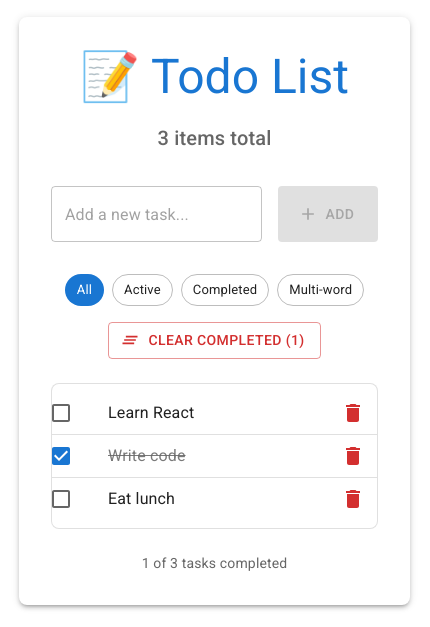
Test: ClunkyTodoList Component › Edge Cases and Error Handling › handles empty state correctly
Click the button named "delete" next to "Learn React". click: (353, 413)
box: [333,393,373,433]
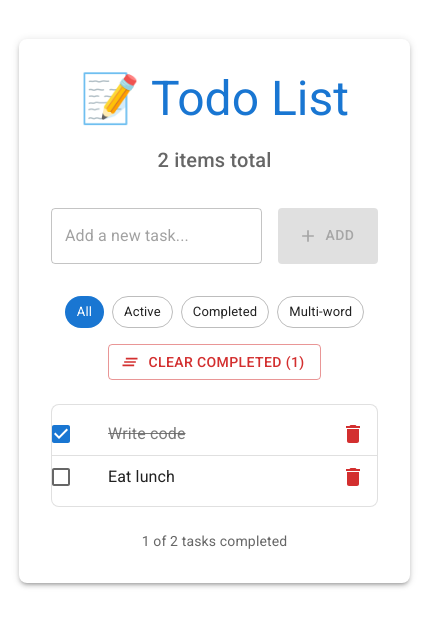
Click the button named "delete" next to "Write code". click: (353, 434)
box: [333,414,373,454]
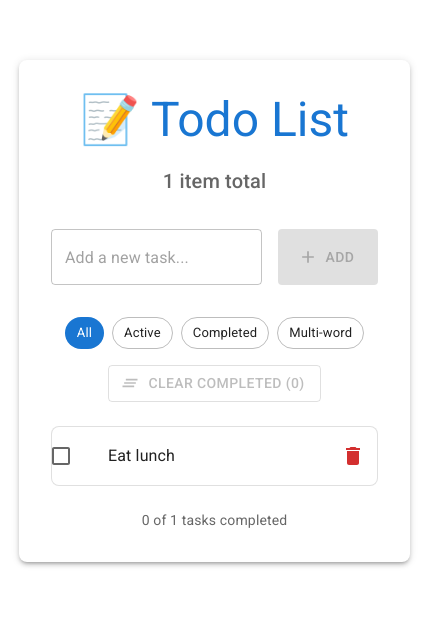
Click the button named "delete". click: (353, 456)
box: [333,436,373,476]
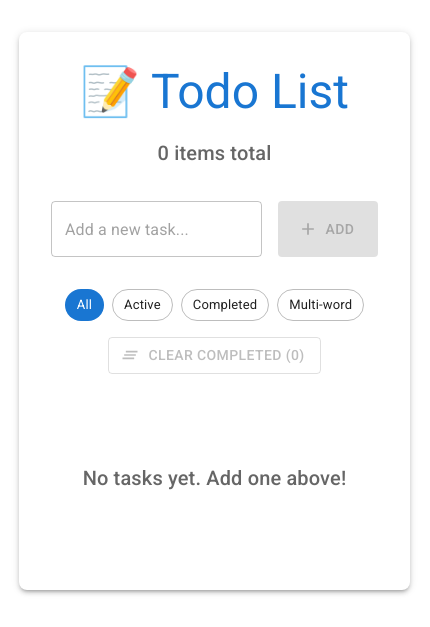
Expected: the heading "No tasks yet. Add one above!" is shown, [83,466,346,490]
Expected: the heading "0 items total" is shown, [158,141,271,165]
